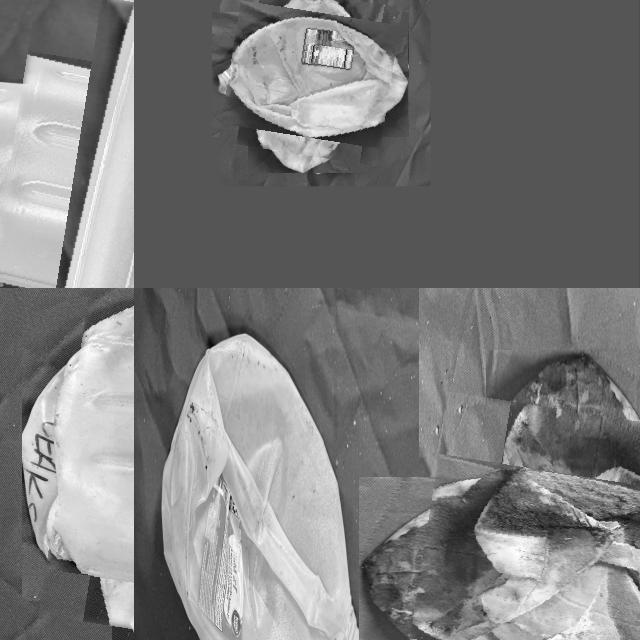milk-jug: (157, 322, 361, 640), (412, 402, 640, 640), (0, 0, 134, 288), (53, 288, 134, 640), (224, 0, 397, 161)
